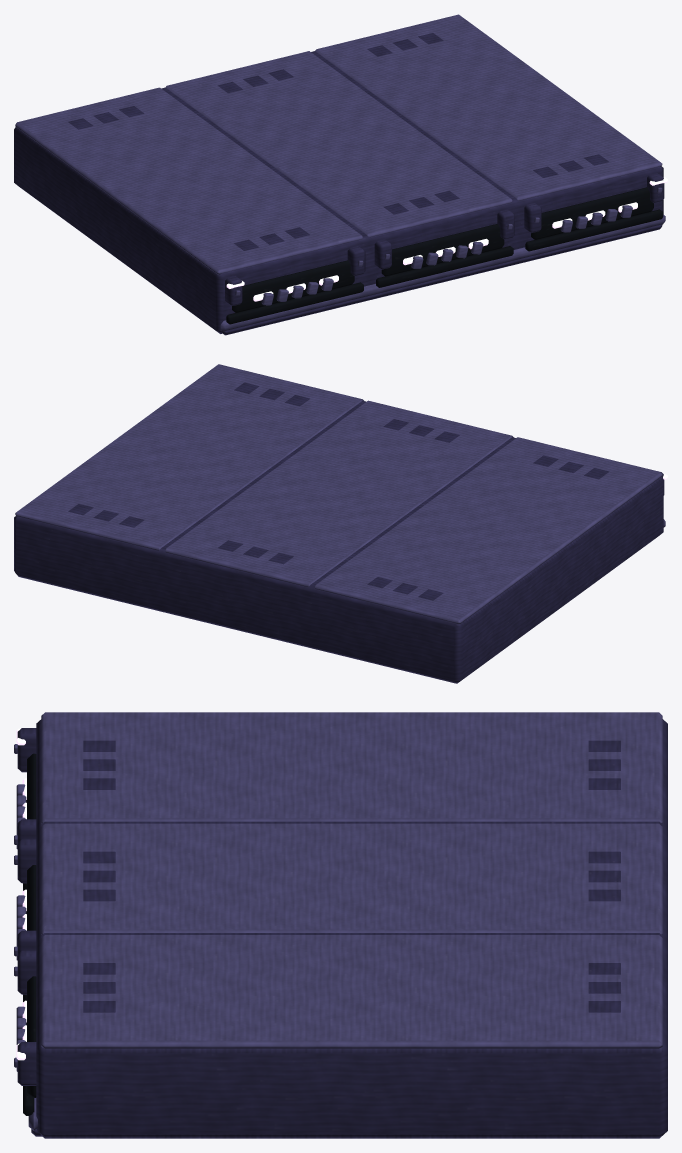
Rendered from orbital_array_deck.glb.
The picture shows the model from 3 angles, top to bottom: view 1: azimuth 30°, elevation 25°; view 2: azimuth 150°, elevation 25°; view 3: azimuth 270°, elevation 25°; orthographic projection. The views are drawn at different scales.
Parts seen in each view (by area): view 1: orbital_array_deck - orbital_array trim, orbital_array_deck - orbital_array panels, orbital_array_deck - Recessed iron, orbital_array_deck - orbital_array accents; view 2: orbital_array_deck - orbital_array trim, orbital_array_deck - orbital_array panels; view 3: orbital_array_deck - orbital_array trim, orbital_array_deck - orbital_array panels, orbital_array_deck - Recessed iron.
Boxes of the visible parts, x1,y1,x2,y2 form: orbital_array_deck - orbital_array trim: (15, 14, 665, 331); orbital_array_deck - orbital_array panels: (14, 33, 664, 335); orbital_array_deck - Recessed iron: (226, 187, 663, 324); orbital_array_deck - orbital_array accents: (226, 177, 667, 301); orbital_array_deck - orbital_array trim: (15, 364, 665, 624); orbital_array_deck - orbital_array panels: (14, 382, 664, 683); orbital_array_deck - orbital_array trim: (14, 712, 662, 1130); orbital_array_deck - orbital_array panels: (17, 719, 667, 1138); orbital_array_deck - Recessed iron: (23, 753, 36, 1115).
Bounding box in the file's own units: 5.99 × 0.8325 × 4.97.
4 materials, 3 textured.
